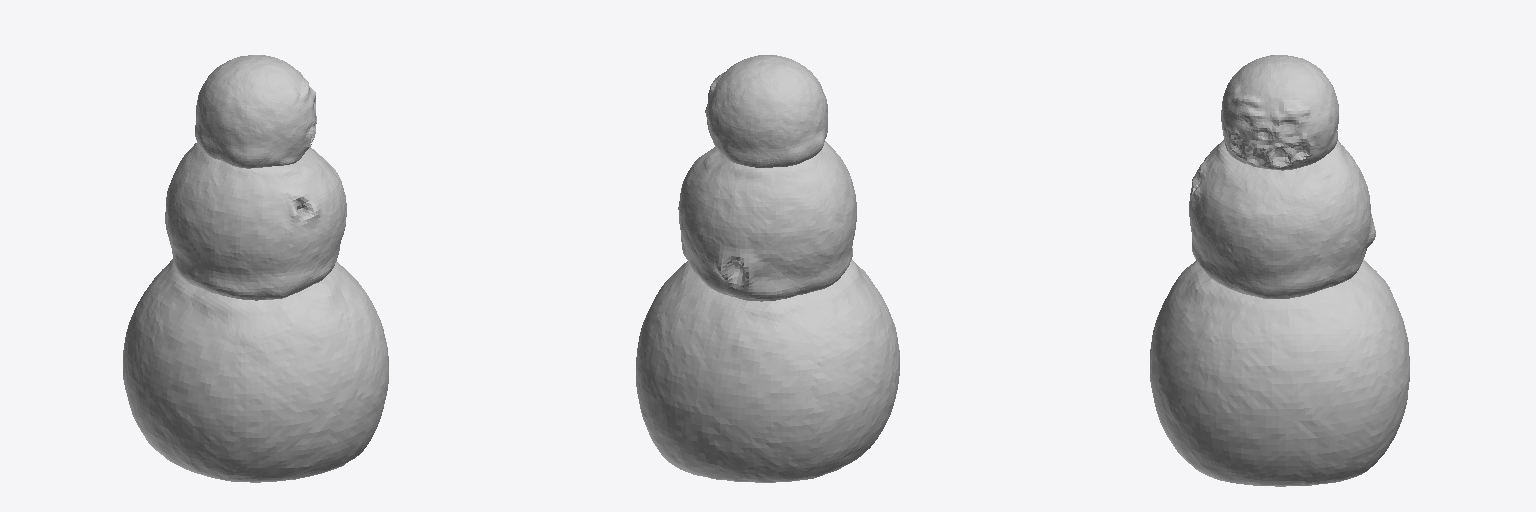
File: Snowman.obj
3 views of the same model, side by side, from view 1: azimuth 30°, elevation 25°; view 2: azimuth 150°, elevation 25°; view 3: azimuth 270°, elevation 25° (orthographic).
Visible parts, largest first — view 1: Snowman_Cube.079; view 2: Snowman_Cube.079; view 3: Snowman_Cube.079.
Boxes of the visible parts, <box> form: Snowman_Cube.079: <box>123,55,388,482</box>; Snowman_Cube.079: <box>636,55,899,482</box>; Snowman_Cube.079: <box>1150,55,1409,486</box>.
Bounding box in the file's own units: 12.42 × 20.5 × 12.42.